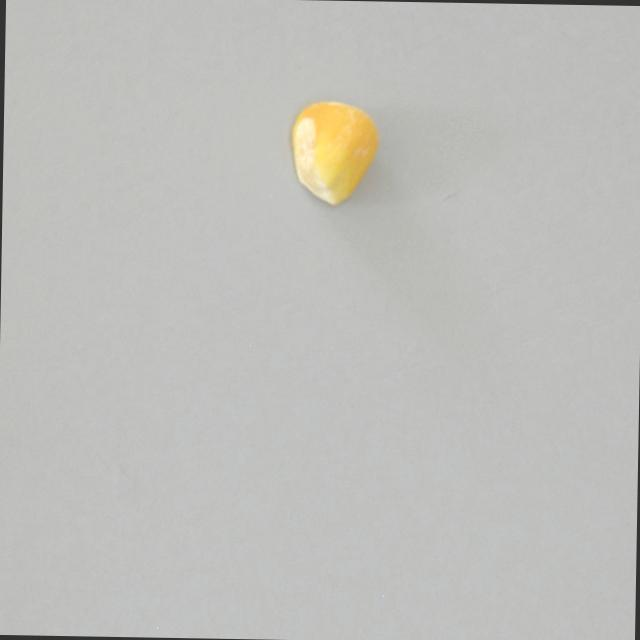no_desgerminado: (287, 97, 382, 208)
